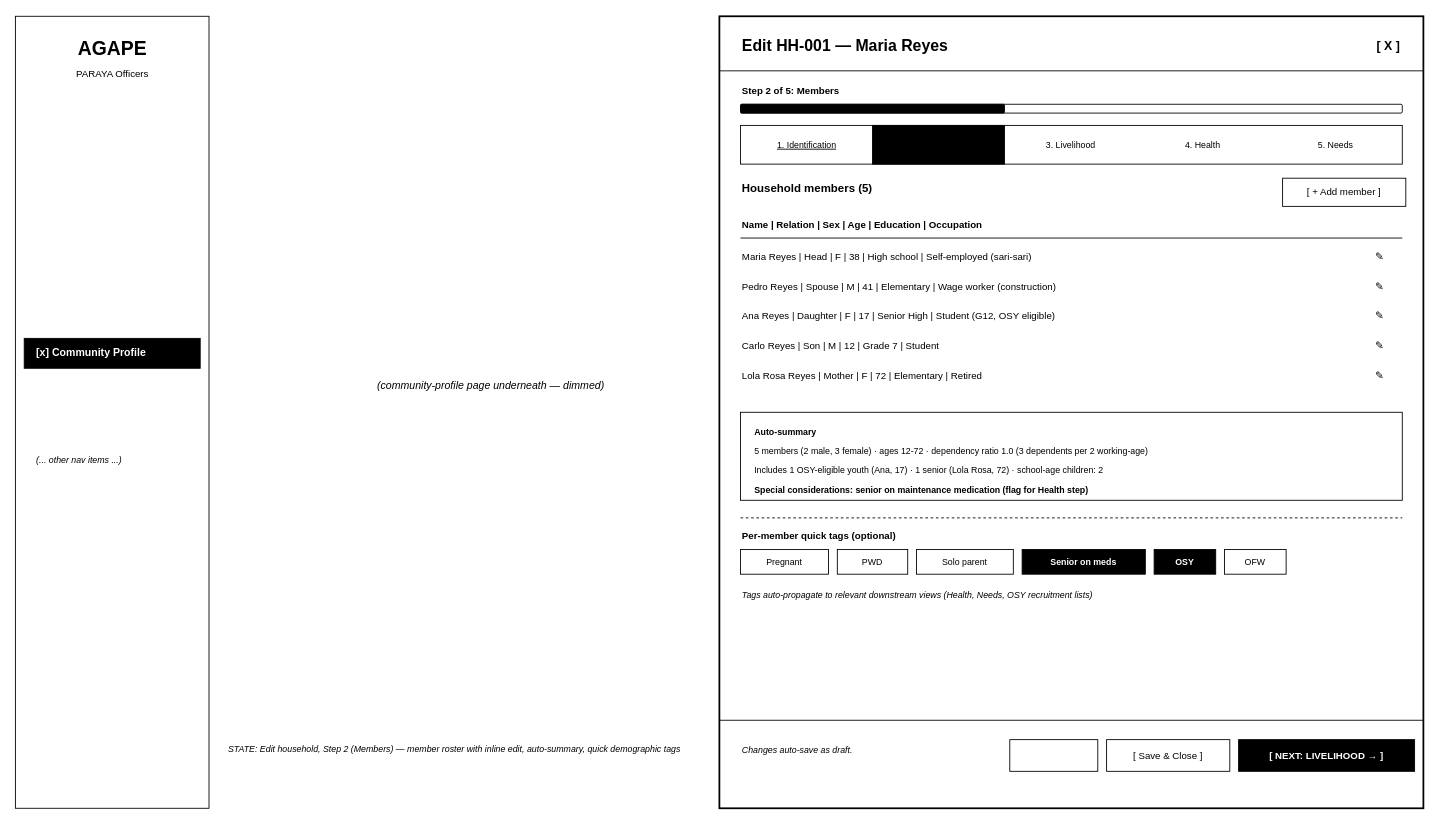
Image size: 1440x824. Some labels were removed from this diagram. Here are the shapes that lost their labels. From the top down, the box of each, then its label:
(872, 125, 1005, 164): 2. Members
(1009, 739, 1098, 771): [ ← Back ]
